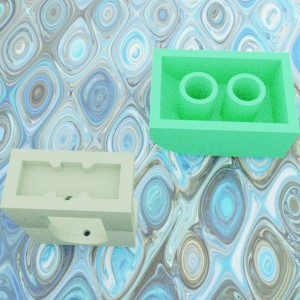lego: (149, 48, 299, 158), (0, 148, 138, 247)
